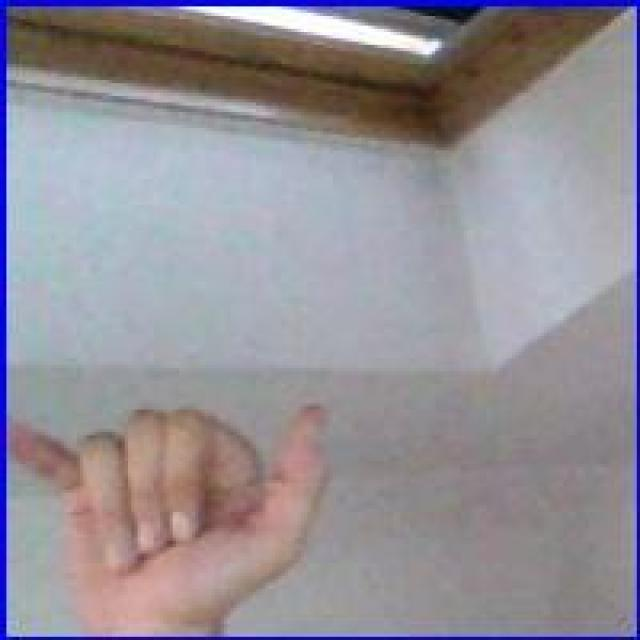Y: (5, 400, 334, 640)
